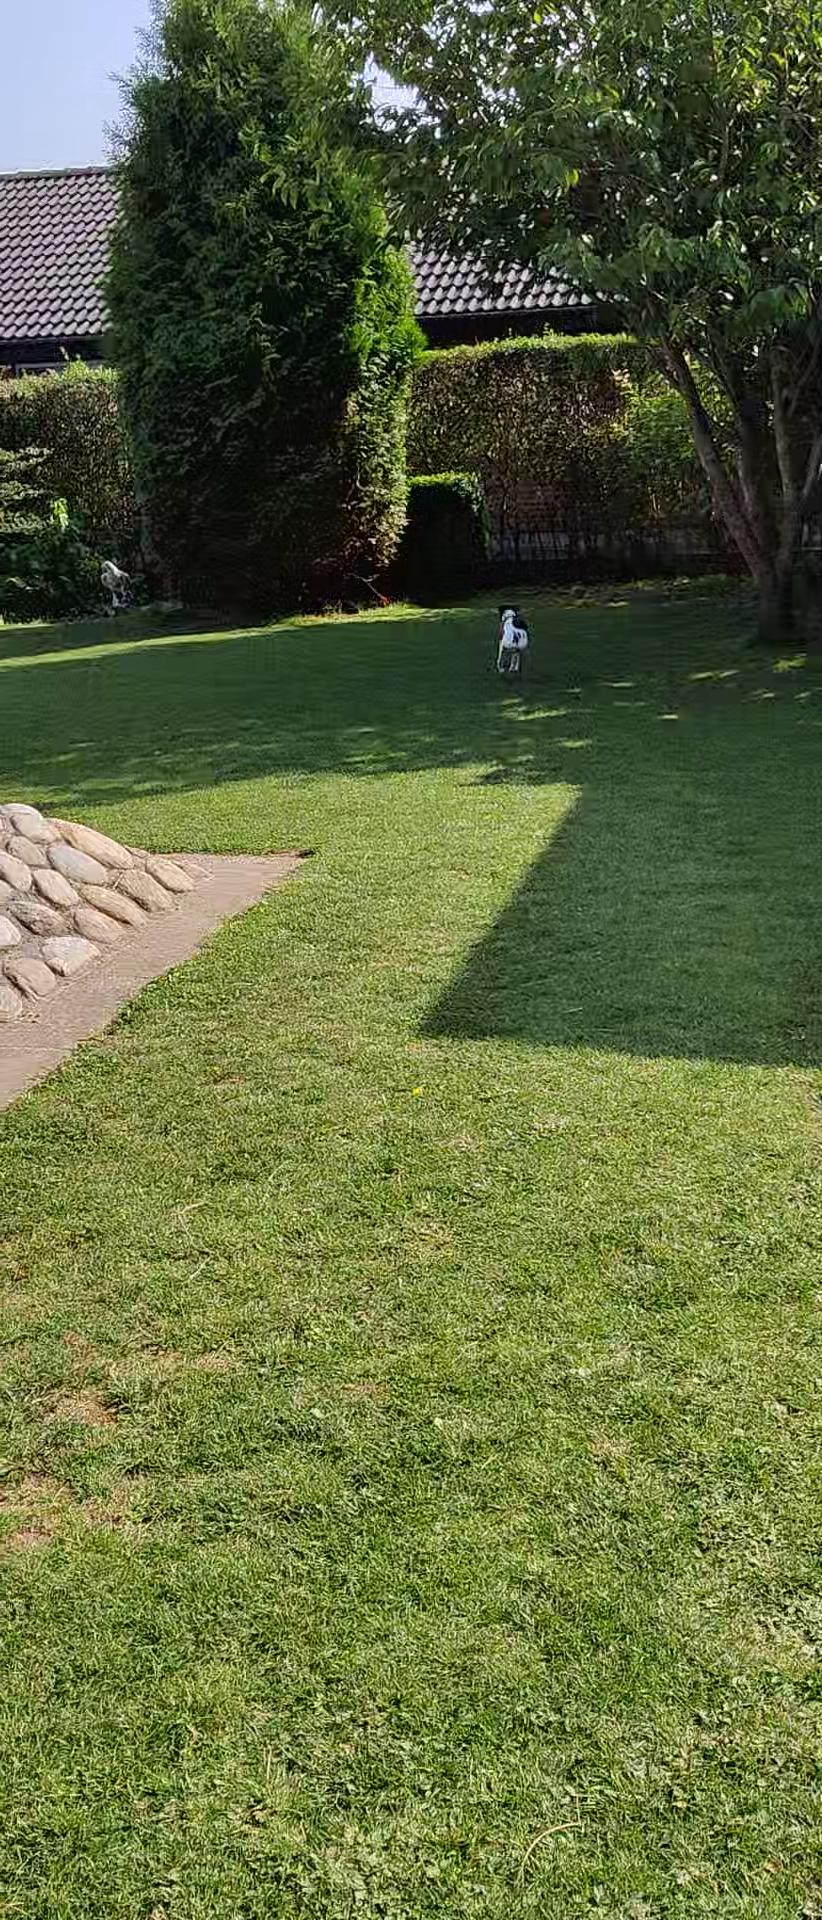Dog: (484, 596, 537, 680)
